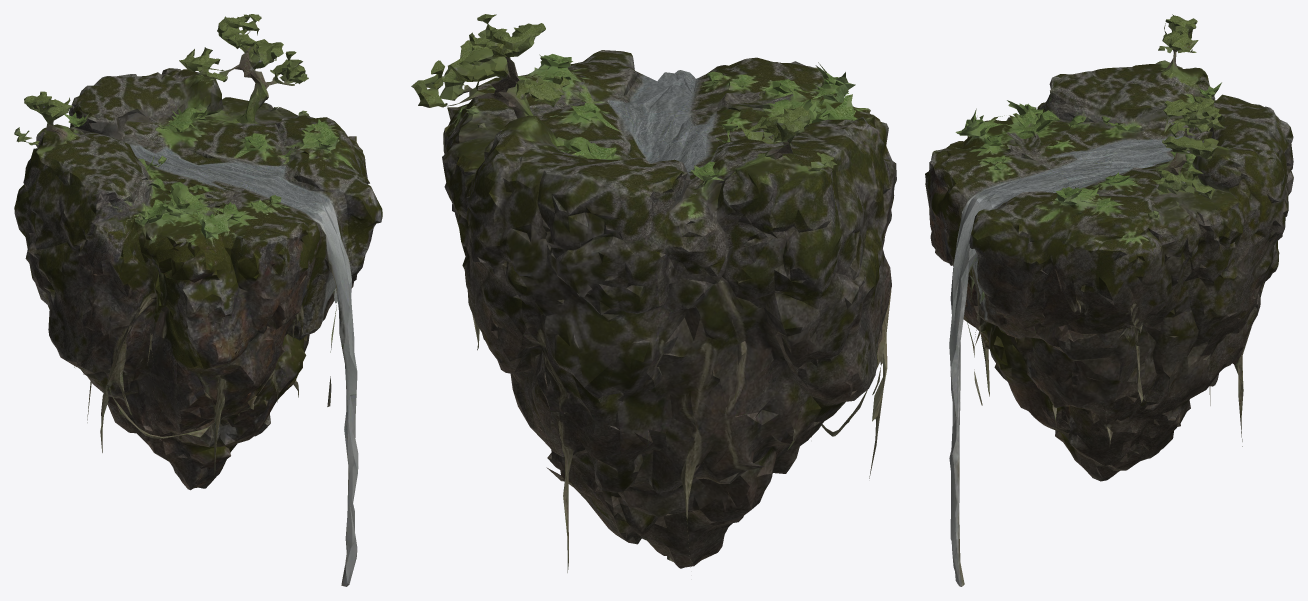
The model's file is sp_m_cliff.glb.
3 renders of one model, left to right at view 1: azimuth 30°, elevation 25°; view 2: azimuth 150°, elevation 25°; view 3: azimuth 270°, elevation 25°, orthographic. The views are drawn at different scales.
Visible parts, largest first — view 1: output_unwrapped; view 2: output_unwrapped; view 3: output_unwrapped.
Boxes of the visible parts, left/top/right/bottom form: output_unwrapped: left=14, top=14, right=382, bottom=586; output_unwrapped: left=411, top=14, right=896, bottom=572; output_unwrapped: left=925, top=14, right=1293, bottom=586.
Bounding box in the file's own units: 1.3 × 1.89 × 1.28.
1 material, 1 textured.
